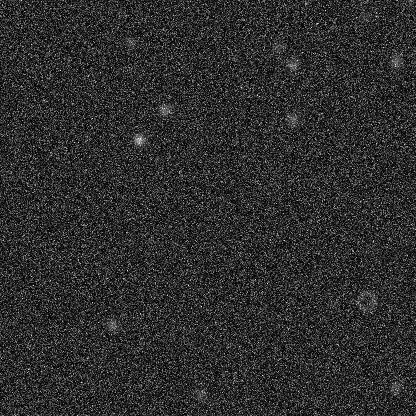Ring: (354, 288, 378, 312)
Spot: (388, 52, 404, 68), (284, 111, 300, 127), (104, 316, 120, 332), (130, 131, 146, 147), (192, 386, 208, 402), (122, 34, 138, 50), (269, 40, 285, 56), (284, 56, 300, 72), (358, 7, 374, 23), (387, 378, 403, 394), (156, 101, 172, 117)
